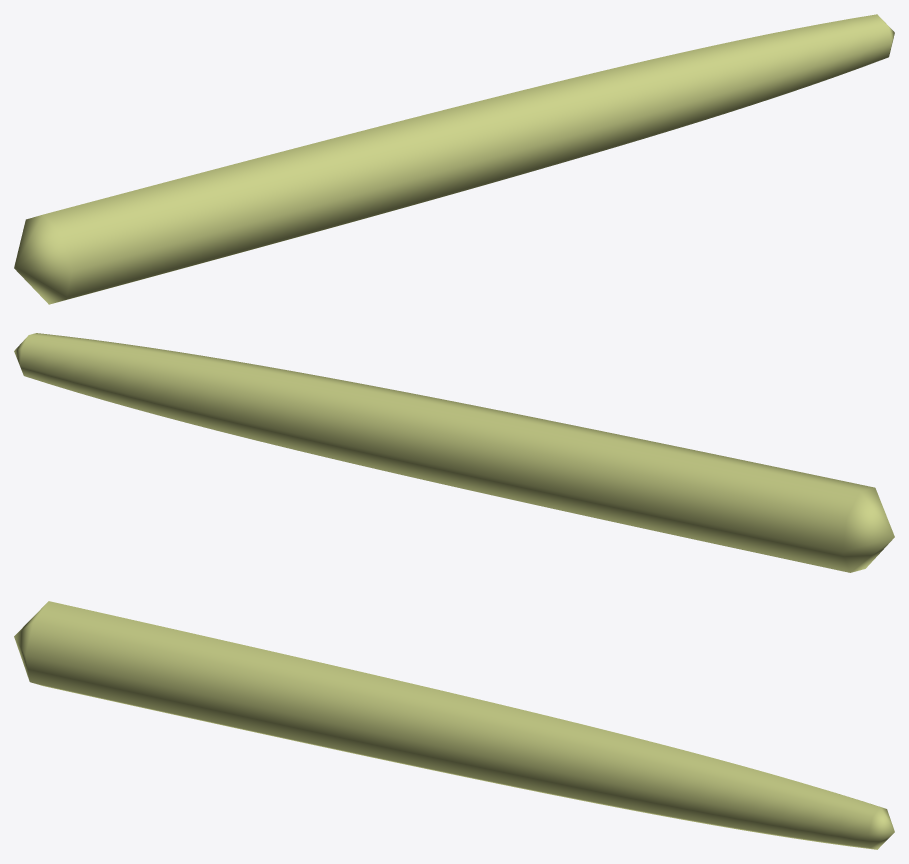
3 renders of one model, top to bottom at view 1: azimuth 30°, elevation 25°; view 2: azimuth 150°, elevation 25°; view 3: azimuth 330°, elevation 25°, orthographic. The views are drawn at different scales.
Visible parts, largest first — view 1: brush_Disco_g0_b0; view 2: brush_Disco_g0_b0; view 3: brush_Disco_g0_b0.
Part boxes in pixels (bbox=[...]): brush_Disco_g0_b0: bbox=[14, 14, 894, 304]; brush_Disco_g0_b0: bbox=[14, 333, 894, 572]; brush_Disco_g0_b0: bbox=[14, 601, 894, 849].
Bounding box in the file's own units: 1.8 × 0.1641 × 0.2136.
